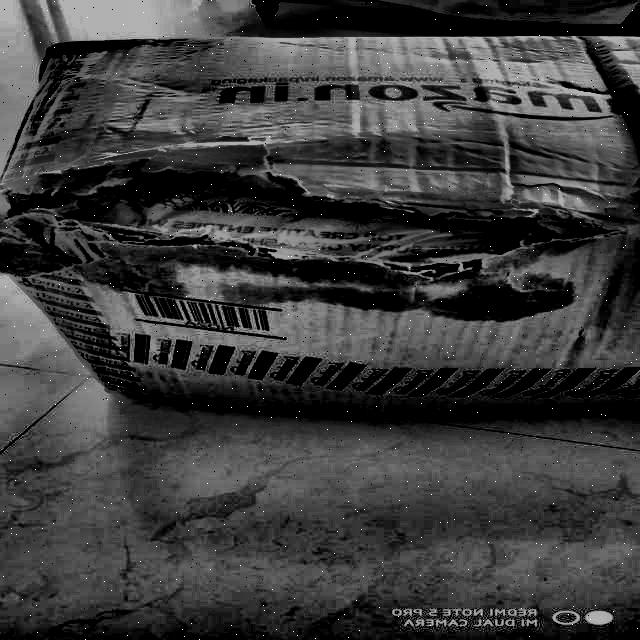box: (1, 28, 640, 432)
hole: (7, 150, 615, 291)
